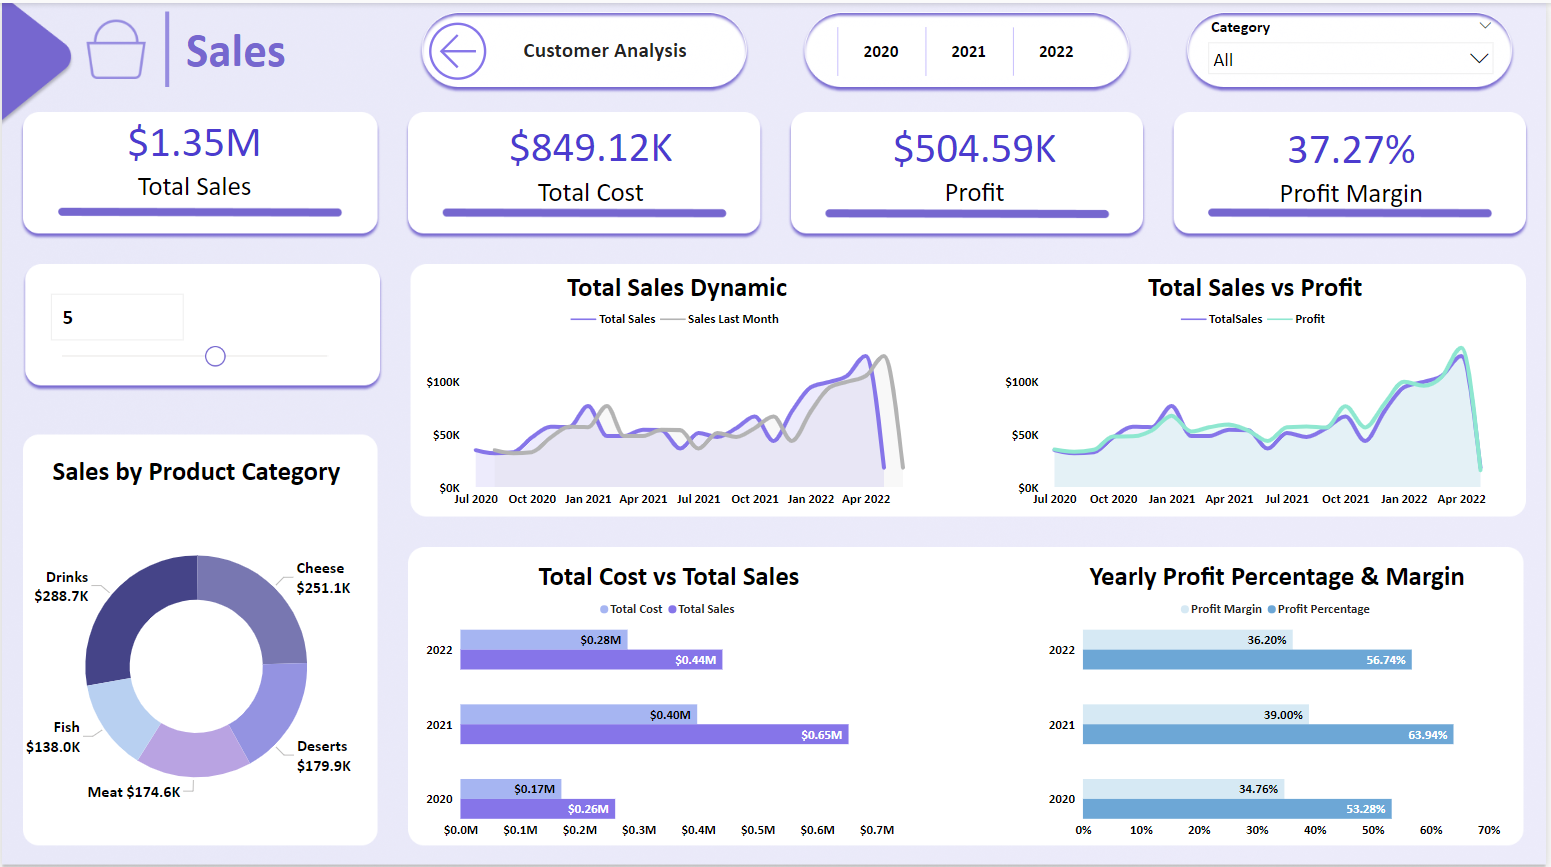

Layout of this report page (visuals, bound fields, positions):
{"tool":"powerbi","page":{"name":"Sales Analysis","canvas":[1920,1080],"ordinal":1},"visuals":[{"type":"slicer","fields":{"Values":["Dates.Date.Variation.Date Hierarchy.Year"]},"box":[1018,28,365,64],"z":0},{"type":"card","fields":{"Values":["MeasureTbl.TotalSales"]},"box":[76.9,129.6,326.8,127.6],"z":1000},{"type":"card","fields":{"Values":["MeasureTbl.TotalCost"]},"box":[569.6,129.6,326.8,141.5],"z":2000},{"type":"card","fields":{"Values":["MeasureTbl.ProfitMargin"]},"box":[1514,130.8,327.9,141.3],"z":3000},{"type":"textbox","box":[223.3,17.4,240.7,83.7],"z":4000},{"type":"card","fields":{"Values":["MeasureTbl.Profit"]},"box":[1046.7,129.6,326.8,143.3],"z":5000},{"type":"areaChart","title":"Total Sales Dynamic","fields":{"Category":["Dates.Date.Variation.Date Hierarchy.Year","Dates.Date.Variation.Date Hierarchy.Month"],"Y":["MeasureTbl.TotalSales"],"Y2":["MeasureTbl.SalesLM"]},"box":[522.3,332.6,634.2,303.1],"z":6000},{"type":"clusteredBarChart","title":"Total Cost vs Total Sales","fields":{"Category":["Dates.Date.Variation.Date Hierarchy.Year","Dates.Date.Variation.Date Hierarchy.Quarter"],"Y":["MeasureTbl.TotalCost","MeasureTbl.TotalSales"]},"box":[522.3,691.7,614,356],"z":7000},{"type":"clusteredBarChart","title":"Yearly Profit Percentage & Margin","fields":{"Category":["Dates.Date.Variation.Date Hierarchy.Year","Dates.Date.Variation.Date Hierarchy.Quarter","Dates.Date.Variation.Date Hierarchy.Month","Dates.Date.Variation.Date Hierarchy.Day"],"Y":["MeasureTbl.ProfitMargin","MeasureTbl.ProfitPercentage"]},"box":[1296.4,691.7,578.2,356],"z":8000},{"type":"donutChart","title":"Sales by Product Category","fields":{"Category":["Order.Category"],"Y":["MeasureTbl.TopXSales"]},"box":[20.9,540.7,443,507.6],"z":9000},{"type":"lineChart","title":"Total Sales vs Profit","fields":{"Category":["Dates.Date.Variation.Date Hierarchy.Year","Dates.Date.Variation.Date Hierarchy.Month"],"Y":["MeasureTbl.TotalSales"],"Y2":["MeasureTbl.Profit"]},"box":[1242,332.6,632.6,303.1],"z":10000},{"type":"slicer","title":"Category ","fields":{"Values":["RankingParameter.RankingParameter"]},"box":[48.9,351.2,379.2,122.3],"z":11000},{"type":"pageNavigator","box":[589.6,26.8,370.2,63.6],"z":12000},{"type":"slicer","title":"Category","fields":{"Values":["Order.Category"]},"box":[1494.8,17.4,364.5,83.7],"z":13000},{"type":"actionButton","box":[522.6,13.4,88.8,92.1],"z":14000},{"type":"slicer","title":"Category ","fields":{"Values":["Rolling Days.Rolling Days"]},"box":[1106,320.1,189.7,91.5],"z":15000}]}

Visuals, with their boxes in screenshot pixels (x1, y1, x2, y2), scaled from the page's 1920x1080 canvas onto the 1551x867 screenshot:
slicer - Dates.Date.Variation.Date Hierarchy.Year: pyautogui.locateOnScreen(822, 22, 1117, 74)
card - MeasureTbl.TotalSales: pyautogui.locateOnScreen(62, 104, 326, 206)
card - MeasureTbl.TotalCost: pyautogui.locateOnScreen(460, 104, 724, 218)
card - MeasureTbl.ProfitMargin: pyautogui.locateOnScreen(1223, 105, 1488, 218)
textbox: pyautogui.locateOnScreen(180, 14, 375, 81)
card - MeasureTbl.Profit: pyautogui.locateOnScreen(846, 104, 1110, 219)
"Total Sales Dynamic" areaChart: pyautogui.locateOnScreen(422, 267, 934, 510)
"Total Cost vs Total Sales" clusteredBarChart: pyautogui.locateOnScreen(422, 555, 918, 841)
"Yearly Profit Percentage & Margin" clusteredBarChart: pyautogui.locateOnScreen(1047, 555, 1514, 841)
"Sales by Product Category" donutChart: pyautogui.locateOnScreen(17, 434, 375, 842)
"Total Sales vs Profit" lineChart: pyautogui.locateOnScreen(1003, 267, 1514, 510)
"Category " slicer: pyautogui.locateOnScreen(40, 282, 346, 380)
pageNavigator: pyautogui.locateOnScreen(476, 22, 775, 73)
"Category" slicer: pyautogui.locateOnScreen(1208, 14, 1502, 81)
actionButton: pyautogui.locateOnScreen(422, 11, 494, 85)
"Category " slicer: pyautogui.locateOnScreen(893, 257, 1047, 330)
